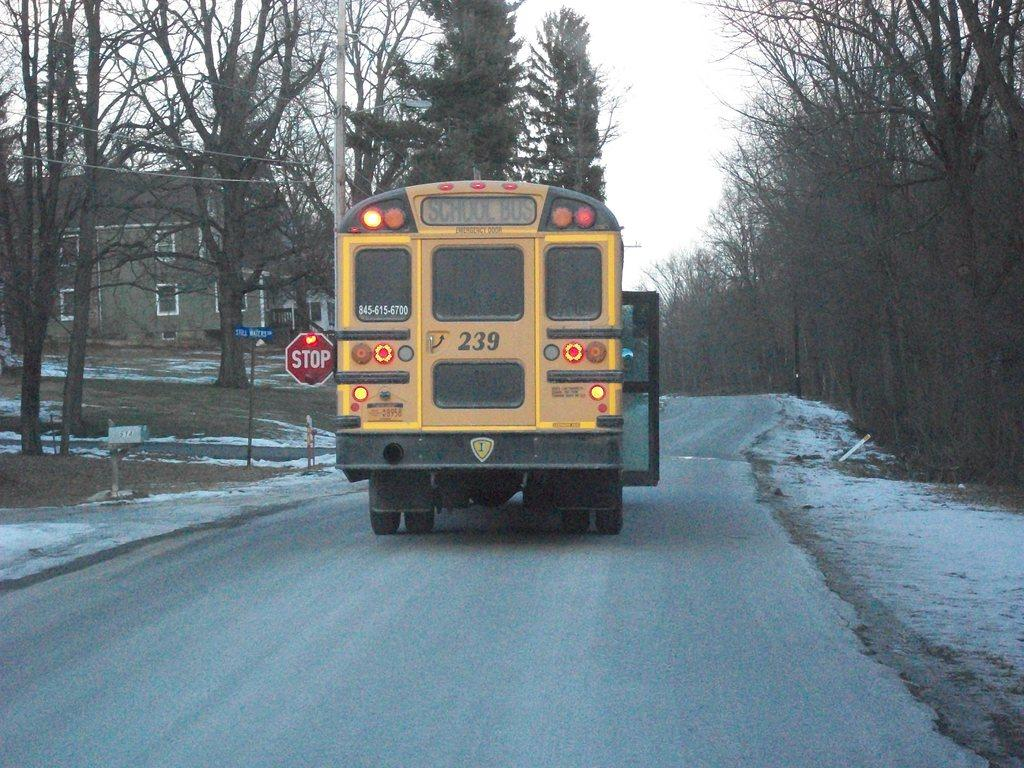Bus: (328, 175, 664, 540)
